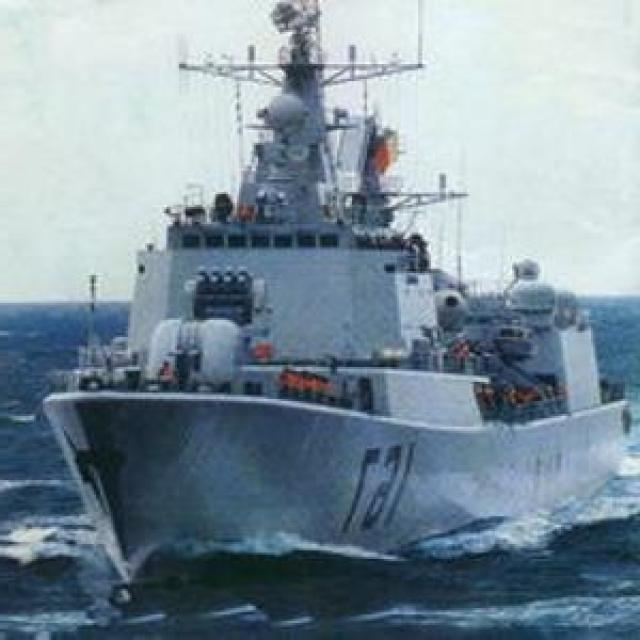navalvessels: (55, 0, 630, 581)
